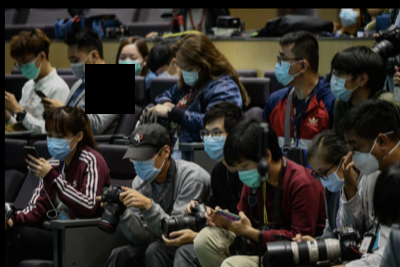with_mask: (347, 136, 378, 175), (126, 152, 162, 182), (200, 124, 227, 162), (328, 67, 357, 102), (311, 163, 344, 193), (46, 126, 75, 160), (274, 48, 299, 86), (234, 156, 263, 188), (116, 49, 144, 76), (67, 51, 93, 77), (175, 60, 200, 87), (13, 57, 41, 80), (154, 63, 179, 81)
